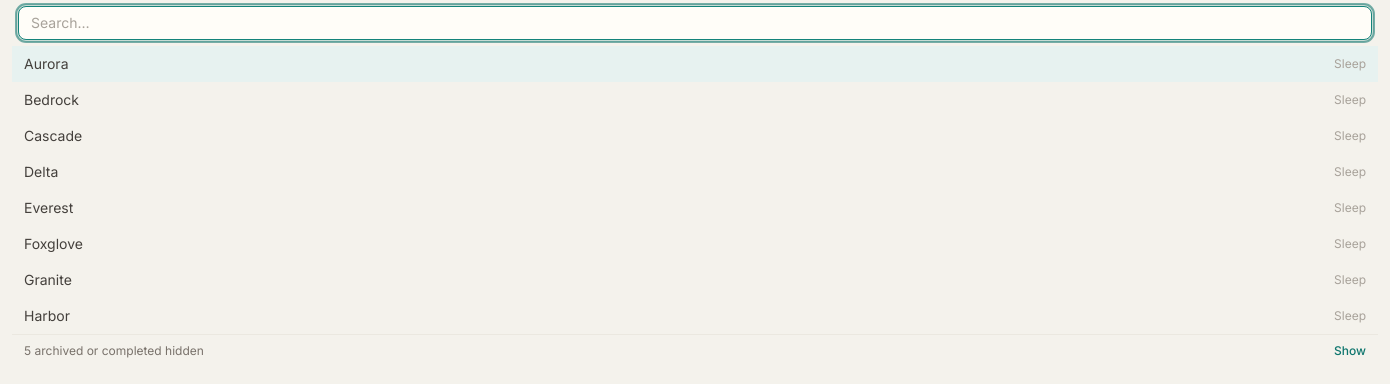
Test: PickerBody › accounts for what it withheld instead of pretending it doesn't exist
This screenshot has width=1390, height=384.
Click the button "5 archived or completed hidden Show" at (98, 350), box top-left (12, 334), bottom-right (1378, 367)
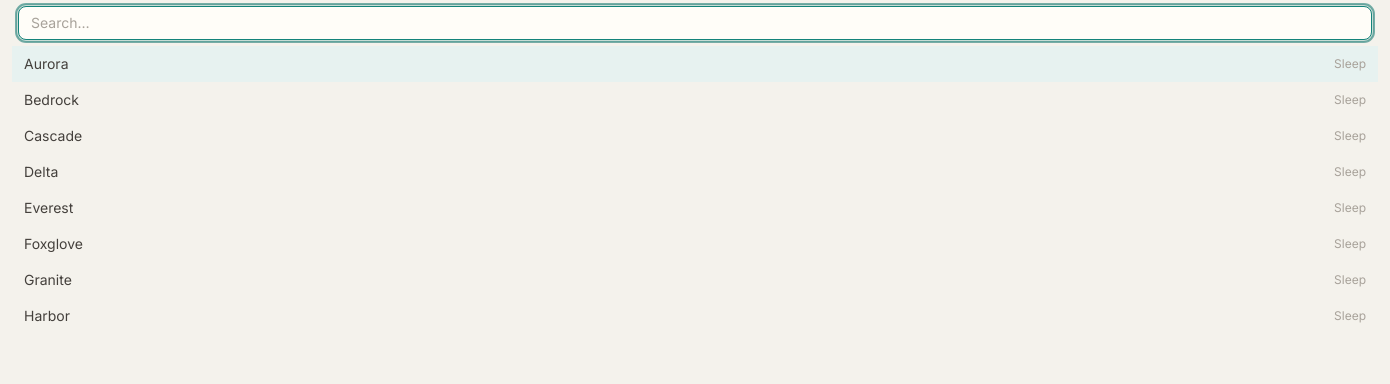
Result: the button "hidden" is gone
